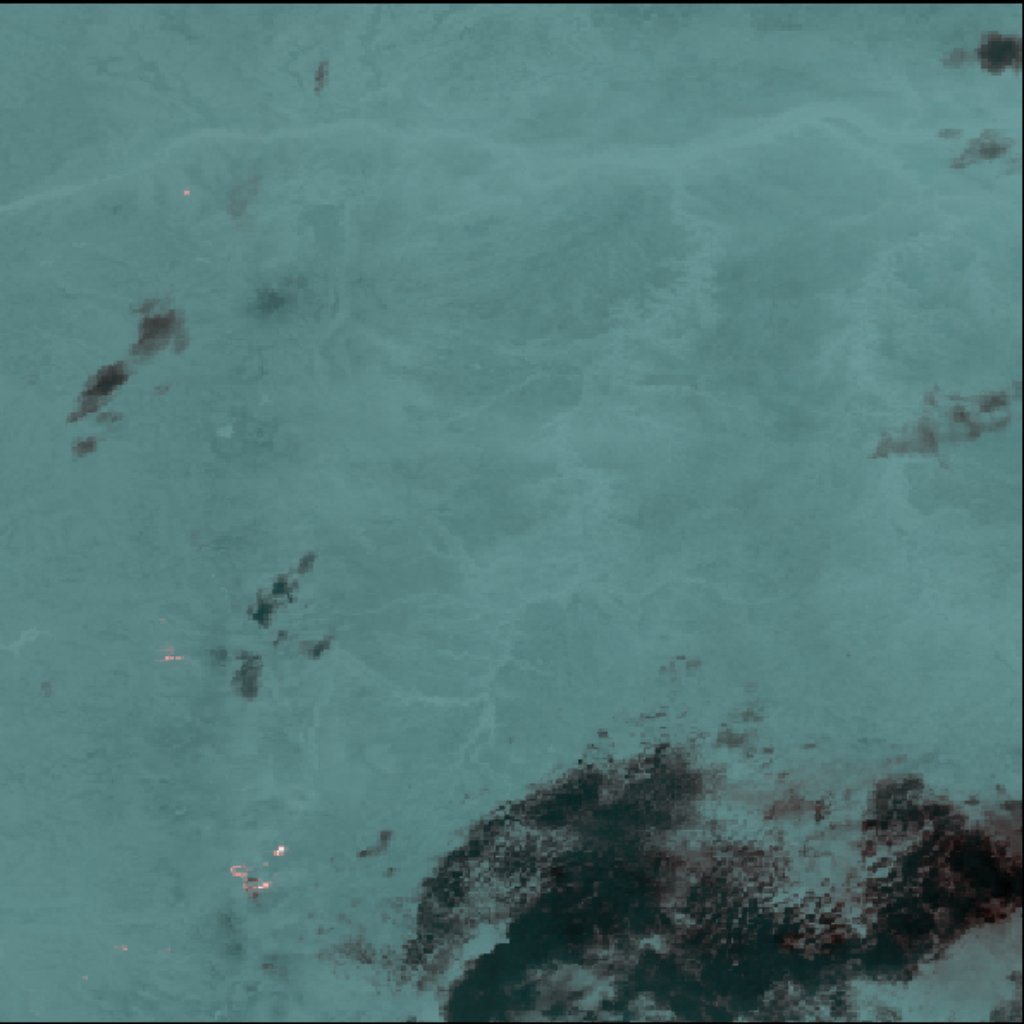fire: (0, 4, 1023, 1023)
